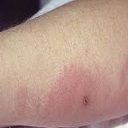Cellulitis: (78, 93, 95, 108)
